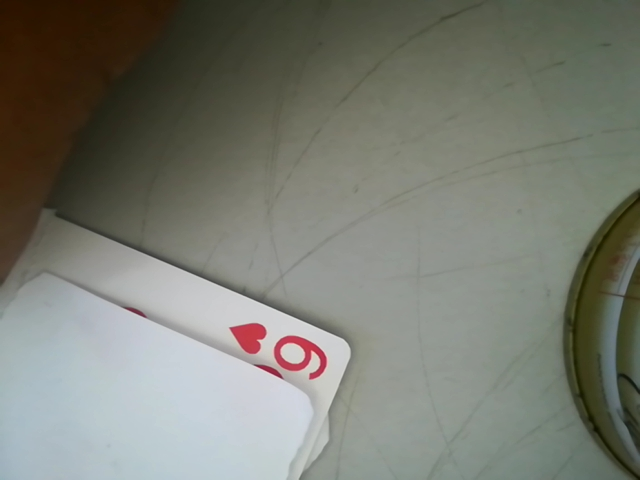hx 6: (225, 313, 344, 386)
